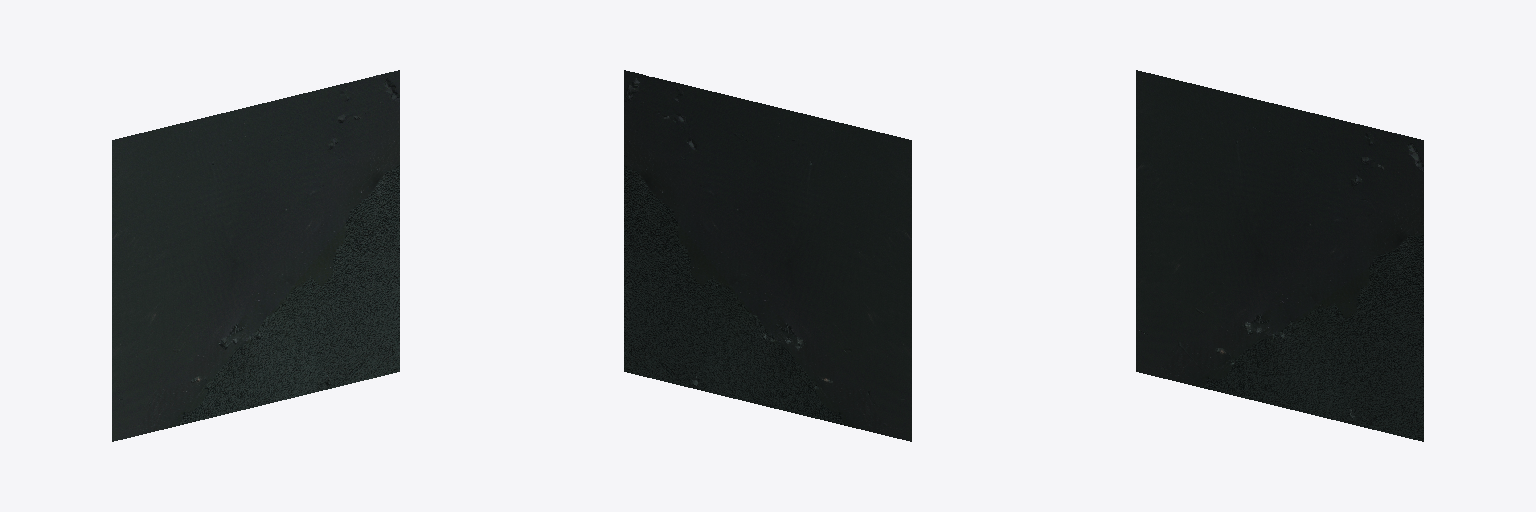
The picture shows the model from 3 angles: view 1: azimuth 30°, elevation 25°; view 2: azimuth 150°, elevation 25°; view 3: azimuth 330°, elevation 25°; orthographic projection.
Size of the model in its own units: 252 by 252 by 6.08.
Materials: 2 (1 with a texture image).